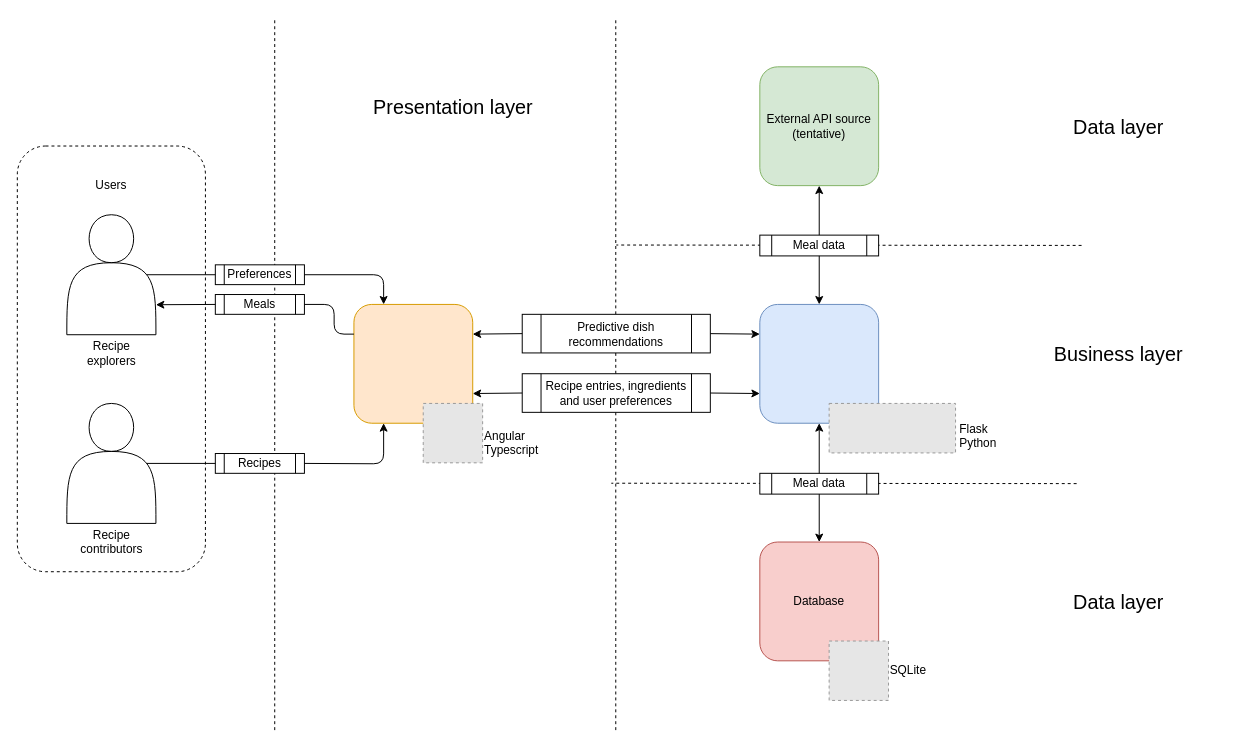
Image size: 1247x748. Some labels were removed from this diagram. Grey dashed boxes stand in for pictures. The centre of each missing label's shape, as x and y in pixels:
Meal application interface (frontend): (x=413, y=363)
Predictive suggestion service (backend): (x=819, y=363)
